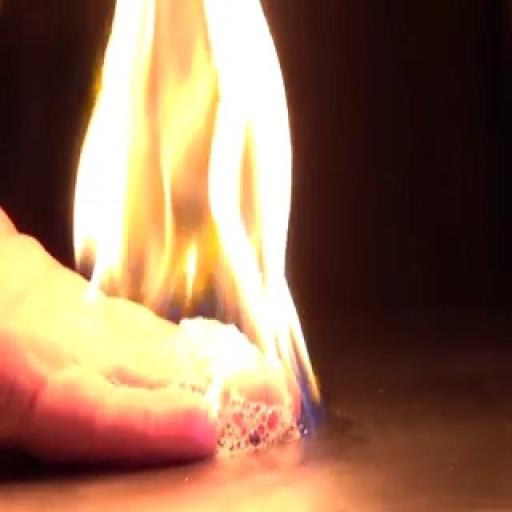smoke: (62, 2, 320, 433)
